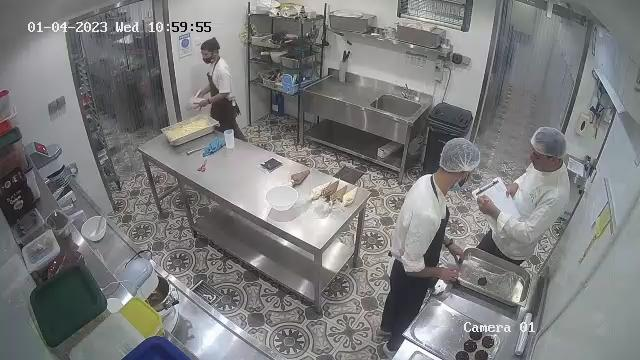apron: (390, 180, 452, 308), (207, 58, 233, 122)
no_apron: (496, 165, 570, 256)
